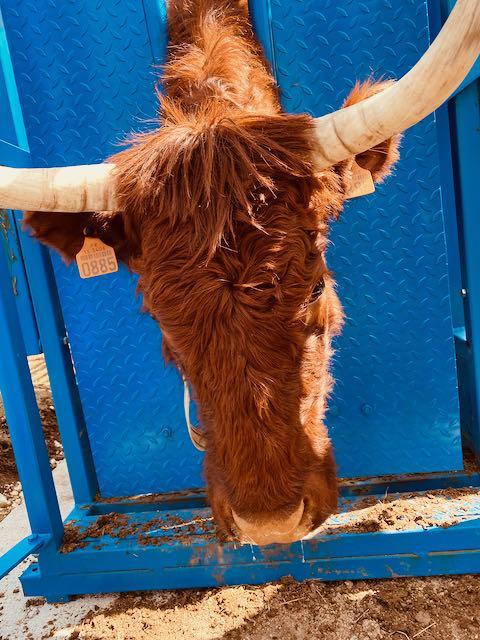muzzles: (202, 498, 329, 555)
